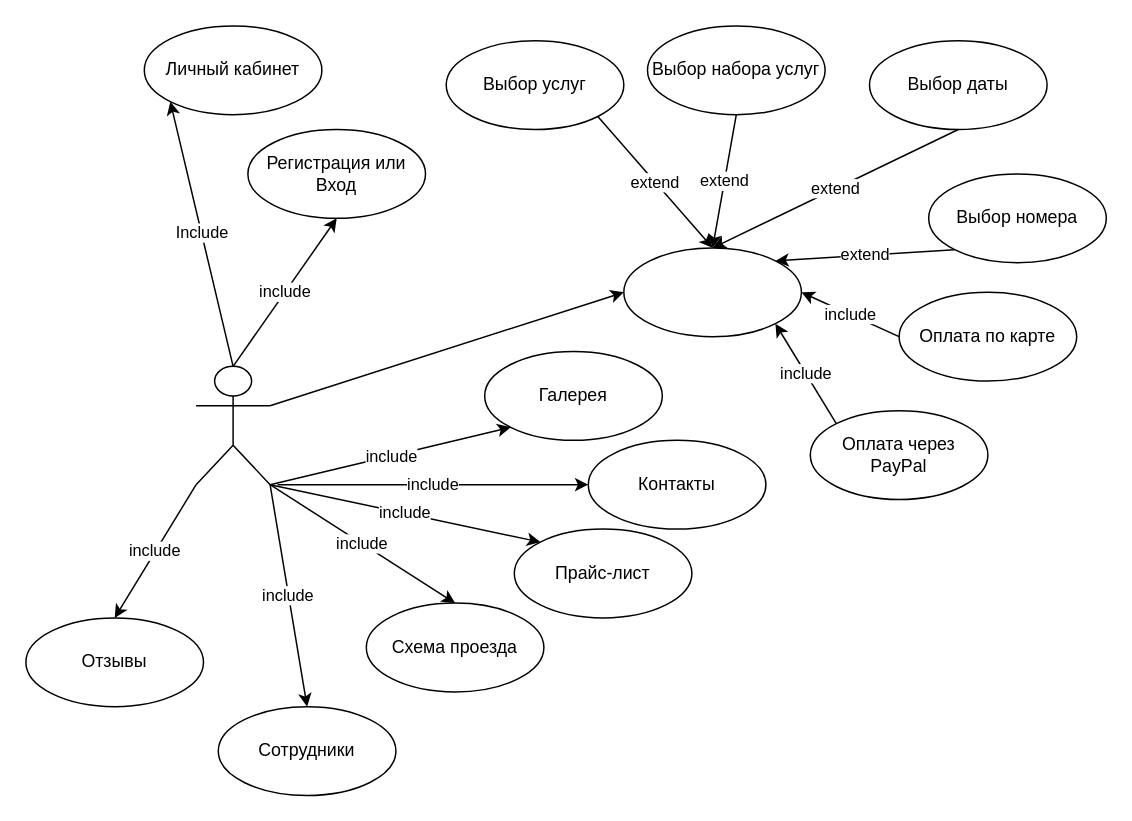
The diagram is 1132 pixels wide and 821 high, and some of its shapes have lost their labels. The box of each missing label's shape, as (x1, y1, x2, y2) in pixels:
Actor: (195, 365, 270, 485)
Оформление путевки: (622, 246, 801, 337)
